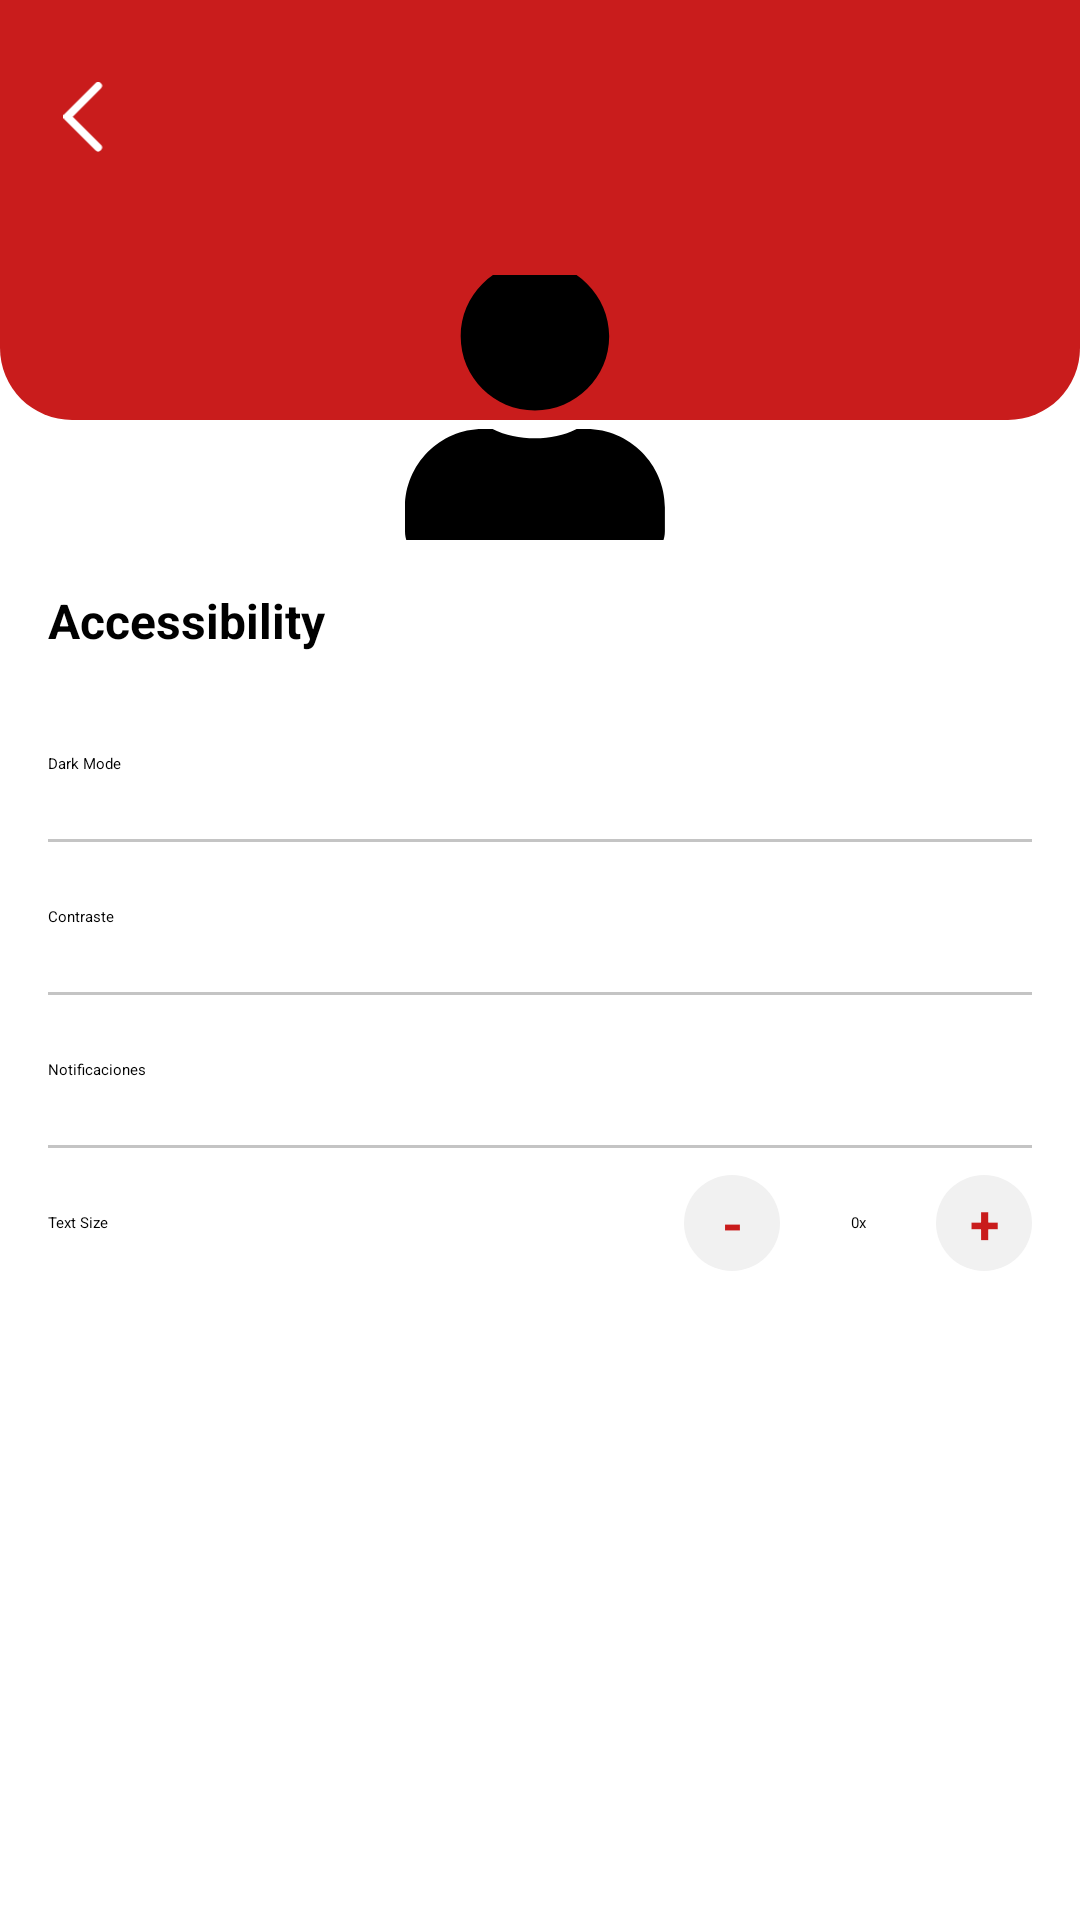

Screen size 1080w x 1920h. Icon name, then its center in pixels as [x,y]:
arrow left: [83,117]
user: [540,407]
